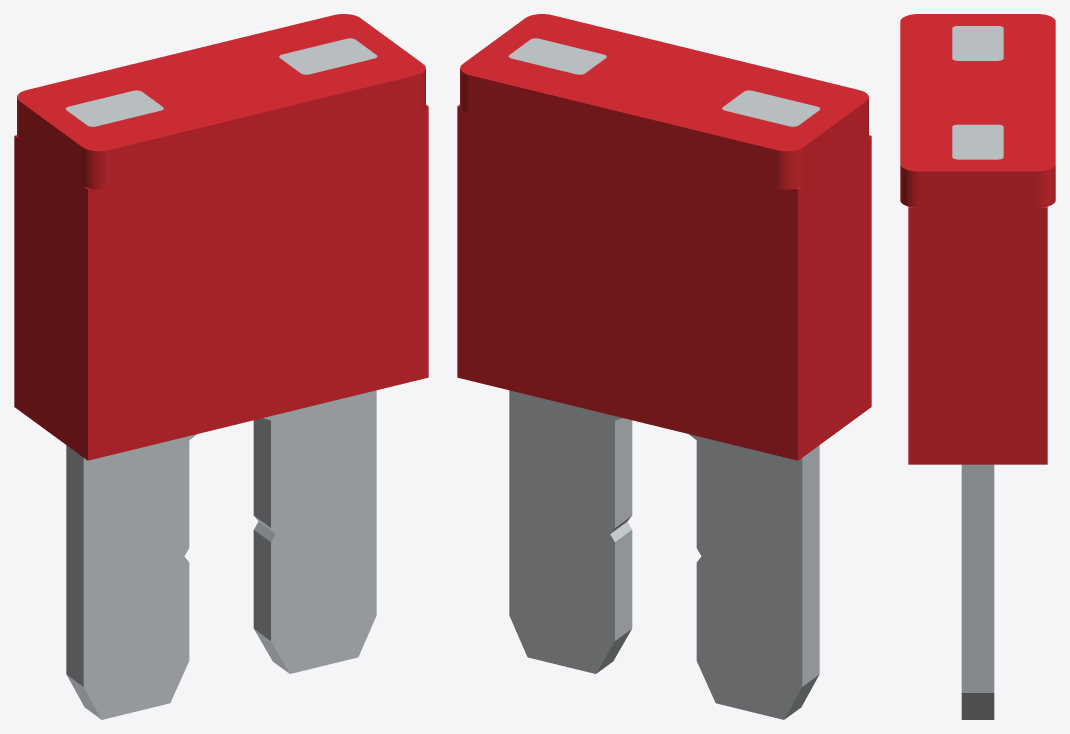
The model's file is Onix-Plus-2023-F48-MICRO2-10A.glb.
3 renders of one model, left to right at view 1: azimuth 30°, elevation 25°; view 2: azimuth 150°, elevation 25°; view 3: azimuth 270°, elevation 25°, orthographic. The views are drawn at different scales.
Visible parts, largest first — view 1: Housing, Upper lip, Contact A, Contact B, Probe point B, Probe point A; view 2: Housing, Upper lip, Contact A, Contact B, Probe point B, Probe point A; view 3: Housing, Upper lip, Contact B, Probe point B, Probe point A.
Part boxes in pixels (left/top/right/bottom): Housing: left=14, top=104, right=428, bottom=460; Upper lip: left=17, top=14, right=425, bottom=189; Contact A: left=66, top=434, right=196, bottom=719; Contact B: left=253, top=390, right=376, bottom=673; Probe point B: left=279, top=38, right=377, bottom=74; Probe point A: left=65, top=90, right=163, bottom=126; Housing: left=457, top=104, right=871, bottom=460; Upper lip: left=460, top=14, right=868, bottom=189; Contact A: left=689, top=434, right=819, bottom=719; Contact B: left=509, top=390, right=632, bottom=673; Probe point B: left=508, top=38, right=606, bottom=74; Probe point A: left=722, top=90, right=820, bottom=126; Housing: left=908, top=206, right=1047, bottom=464; Upper lip: left=900, top=14, right=1055, bottom=207; Contact B: left=961, top=464, right=994, bottom=719; Probe point B: left=952, top=124, right=1003, bottom=159; Probe point A: left=952, top=26, right=1003, bottom=60.
Size of the model in its own units: 0.0091 by 0.0153 by 0.0038.
